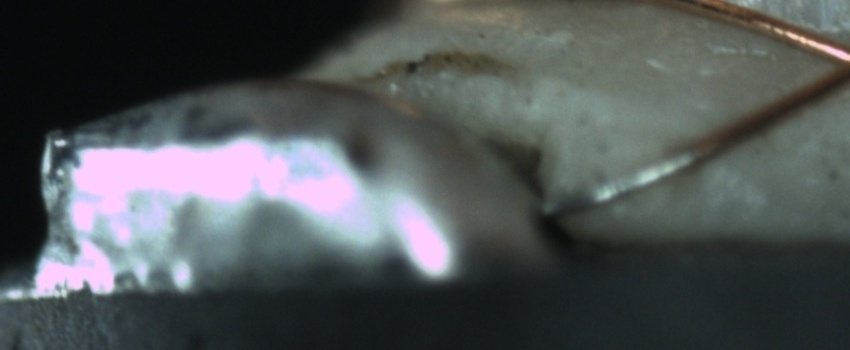CL: (804, 23, 850, 98)
TS: (539, 147, 697, 217)
